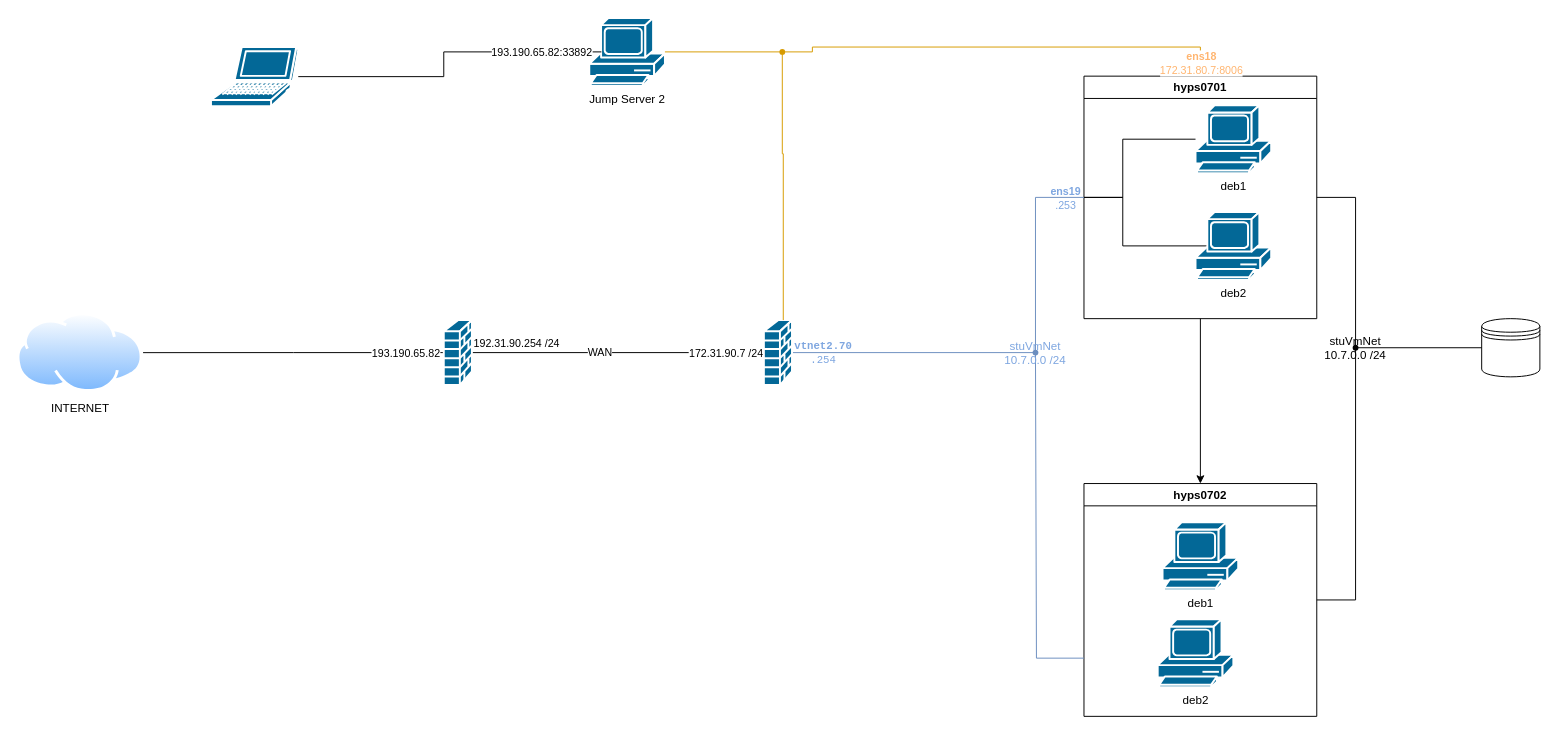
Image size: 1557x733. Some labels were removed from this diagram. The centre of each missing label's shape, as x and y in pixels:
fwns0701: [777,352]
fwnu0001: [457,352]
SAN: [1510,347]
stuMgm 172.31.80.0/24: [782,51]
